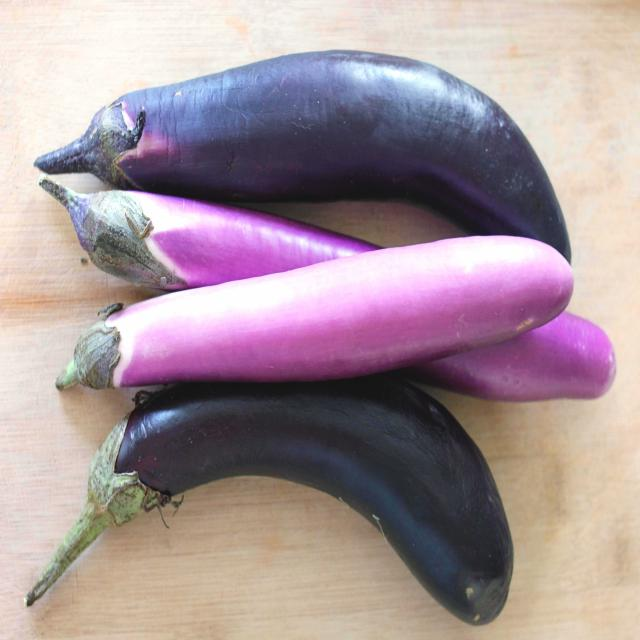Eggplant-r1Ob: (25, 375, 512, 624), (56, 236, 574, 388)
